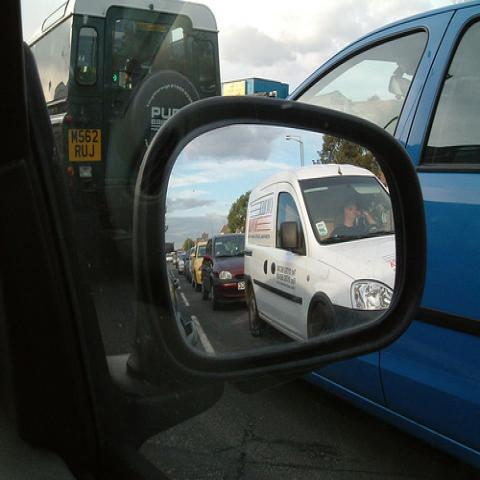car: (279, 0, 479, 389), (202, 233, 246, 310), (189, 241, 207, 292), (184, 247, 194, 281), (177, 253, 186, 275), (173, 254, 178, 267), (166, 253, 173, 262)
truck: (27, 1, 222, 281), (242, 160, 397, 343)
